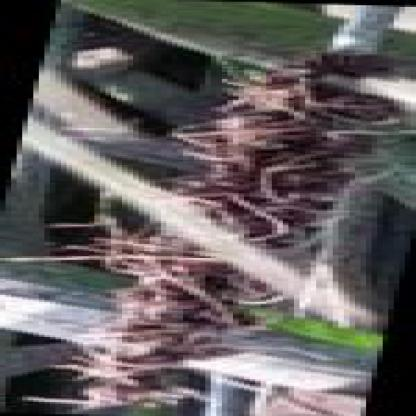Wheat Smut: (198, 135, 333, 192), (240, 79, 360, 131), (129, 279, 246, 312), (118, 317, 212, 344), (98, 388, 190, 414), (113, 237, 182, 270), (219, 197, 332, 216), (258, 221, 313, 240), (108, 355, 199, 365), (84, 365, 135, 382)
